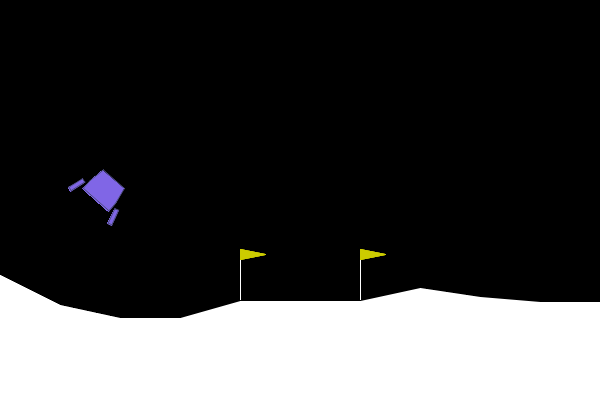lander: (66, 158, 137, 228)
